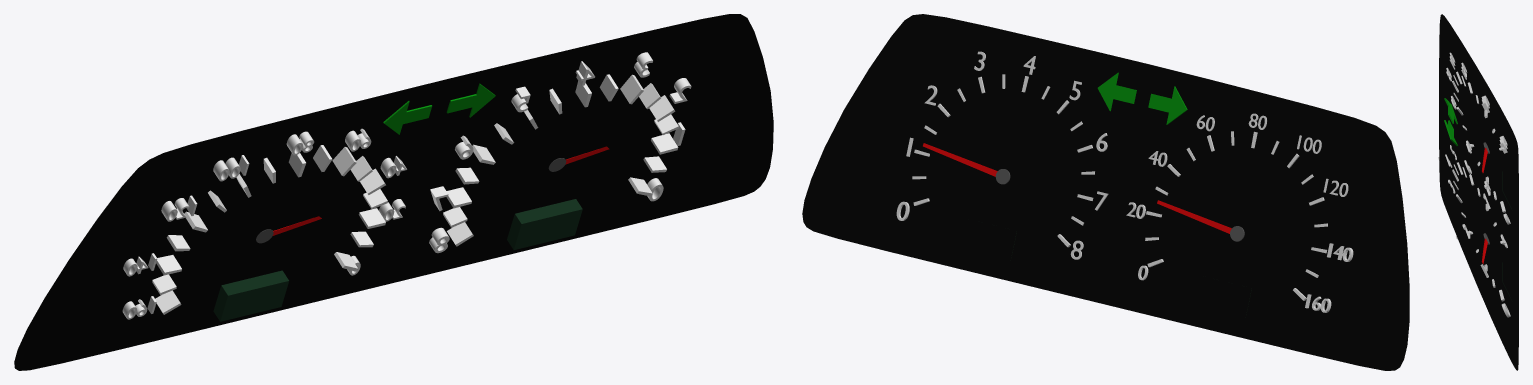
File: pribor.fbx
The picture shows the model from 3 angles, left to right: view 1: azimuth 30°, elevation 25°; view 2: azimuth 150°, elevation 25°; view 3: azimuth 270°, elevation 25°; orthographic projection. The views are drawn at different scales.
Parts seen in each view (by area): view 1: Kuzov.002, Cube, Text, Cube.001, Larrow, Rarrow; view 2: Kuzov.002, Cube.001, Text, Cube, Larrow, Rarrow, kmph, hm; view 3: Kuzov.002, Text, Cube, Cube.001, Larrow, Rarrow, hm, kmph.
Boxes of the visible parts, <box> form: Kuzov.002: <box>14,14,773,370</box>; Cube: <box>152,74,678,314</box>; Text: <box>122,52,691,319</box>; Cube.001: <box>213,199,582,321</box>; Larrow: <box>446,83,495,117</box>; Rarrow: <box>383,101,432,134</box>; Kuzov.002: <box>802,14,1409,370</box>; Cube.001: <box>961,219,1251,318</box>; Text: <box>896,51,1353,312</box>; Cube: <box>912,74,1327,300</box>; Larrow: <box>1097,72,1136,111</box>; Rarrow: <box>1148,86,1187,124</box>; kmph: <box>1157,200,1244,241</box>; hm: <box>923,143,1010,184</box>; Kuzov.002: <box>1439,14,1518,370</box>; Text: <box>1438,52,1510,317</box>; Cube: <box>1452,71,1505,301</box>; Cube.001: <box>1502,171,1512,301</box>; Larrow: <box>1444,120,1457,145</box>; Rarrow: <box>1444,98,1457,124</box>; hm: <box>1481,233,1489,263</box>; kmph: <box>1482,142,1489,172</box>.
Size of the model in its own units: 32.34 by 10.35 by 4.73.
